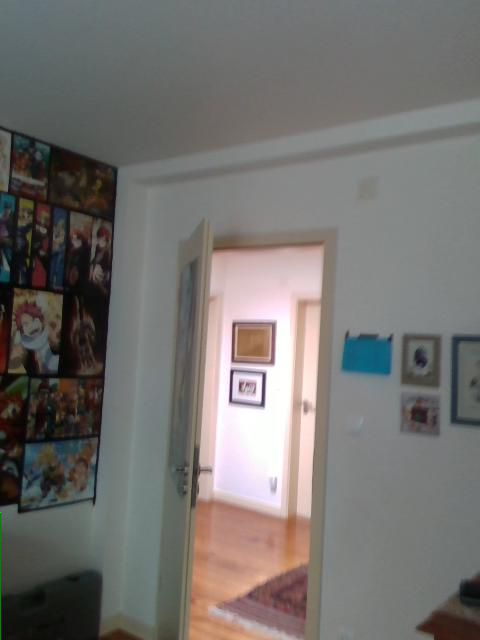semi_door: (153, 210, 338, 639)
